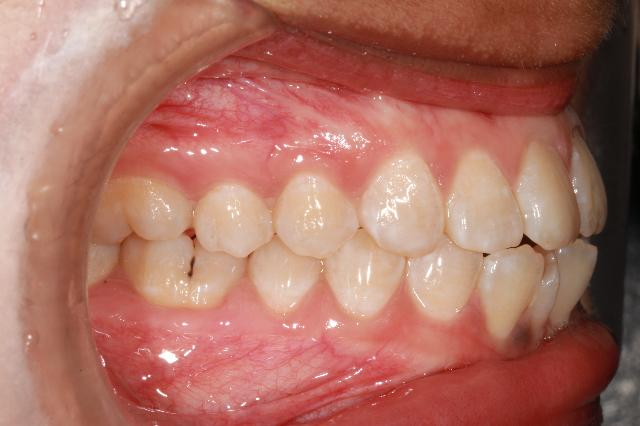canine class I: (325, 144, 481, 328)
canine class III 1/2: (86, 174, 247, 316)
